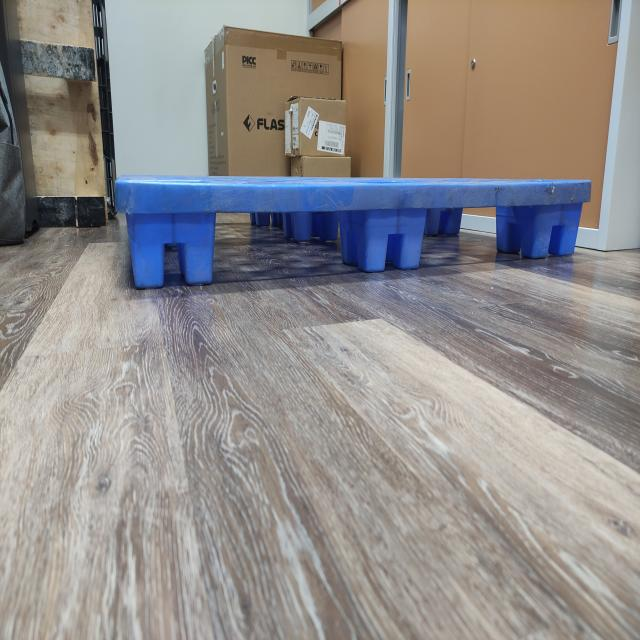block: (127, 211, 221, 292), (362, 207, 427, 272), (532, 205, 586, 258)
front: (111, 179, 594, 288)
